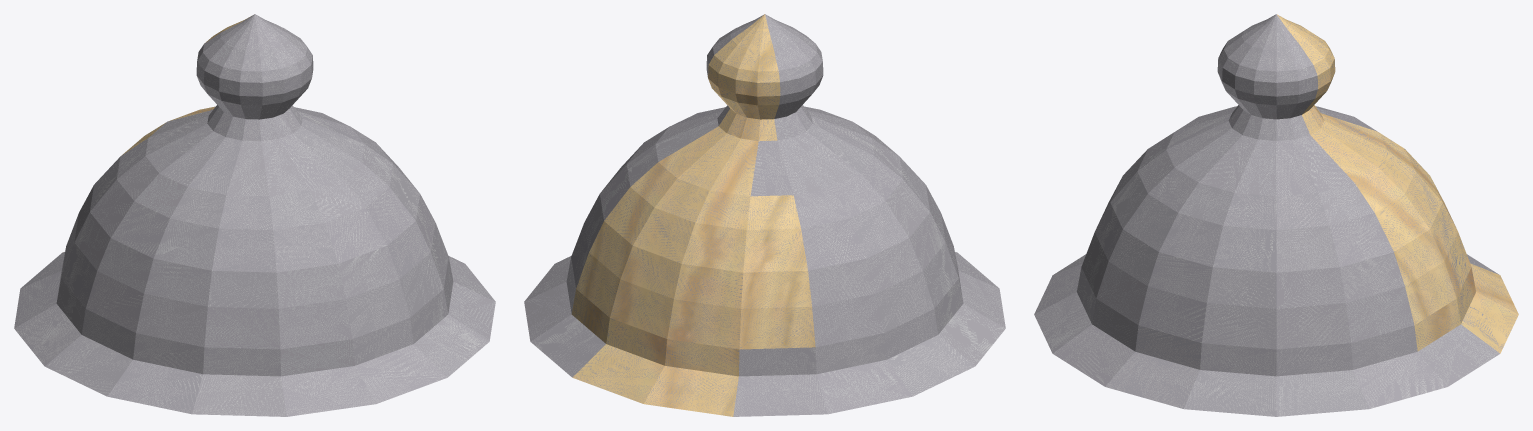
The picture shows the model from 3 angles, left to right: view 1: azimuth 30°, elevation 25°; view 2: azimuth 150°, elevation 25°; view 3: azimuth 270°, elevation 25°; orthographic projection.
Bounding box in the file's own units: 0.5104 × 0.3491 × 0.5104.
